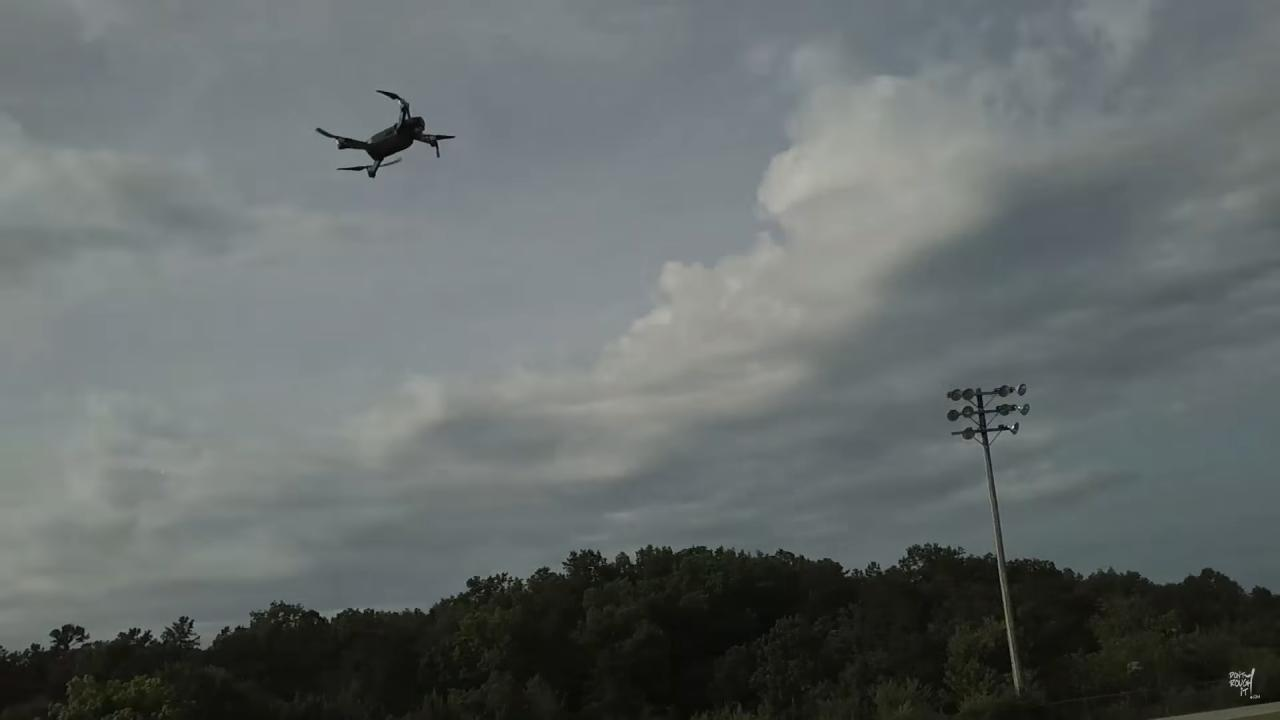Drone: (301, 77, 470, 192)
